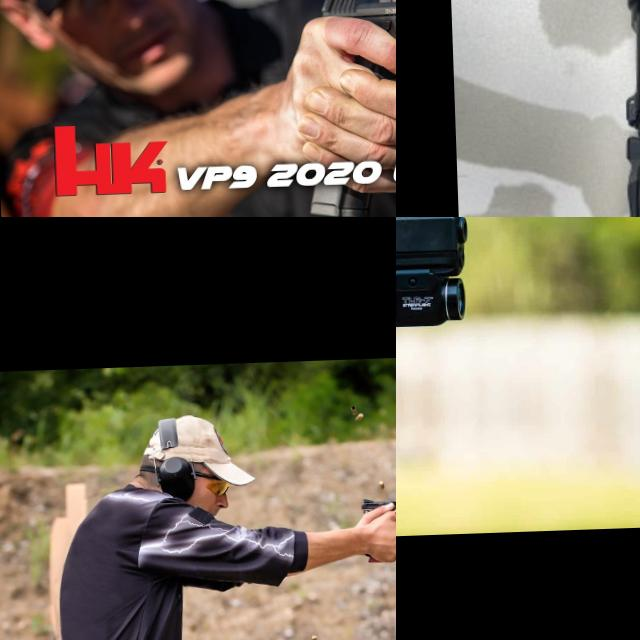handgun: (457, 0, 640, 217), (396, 217, 558, 341), (317, 0, 396, 92), (357, 493, 396, 537)
